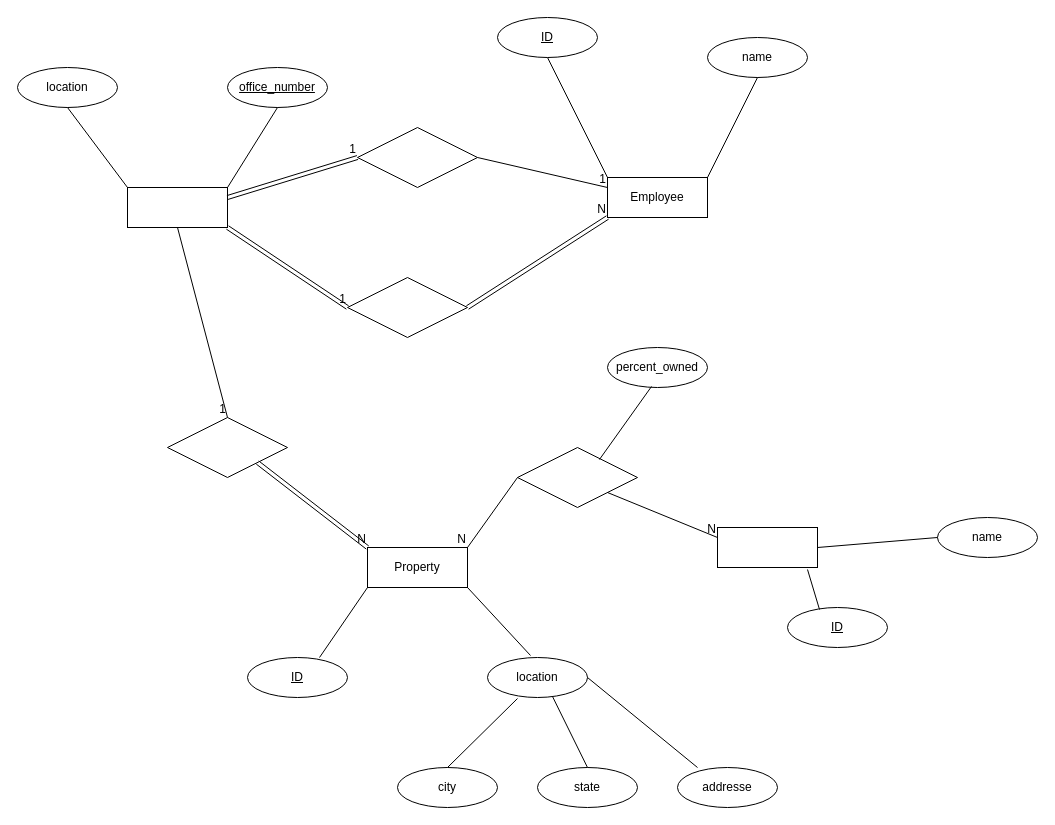
Image size: 1055x825. Some labels were removed from this diagram. Each missing label, with the centre of its shape:
"Assign" goes at point 407,307.
"has" goes at point 577,477.
"List" goes at point 227,447.
"Manage" goes at point 417,157.
"Owner" goes at point 767,547.
"SalesOffice" goes at point 177,207.
